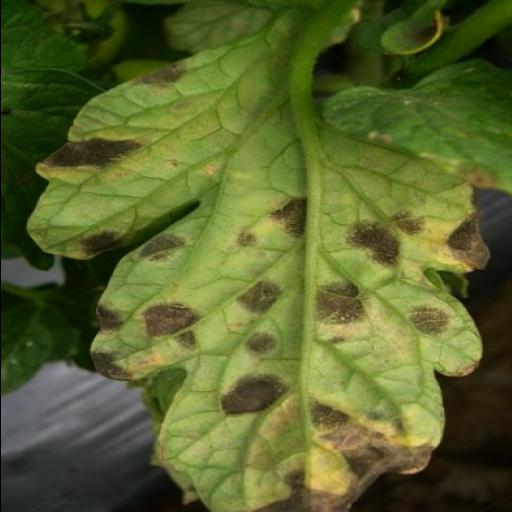Leaf Mold: (24, 0, 496, 512)
